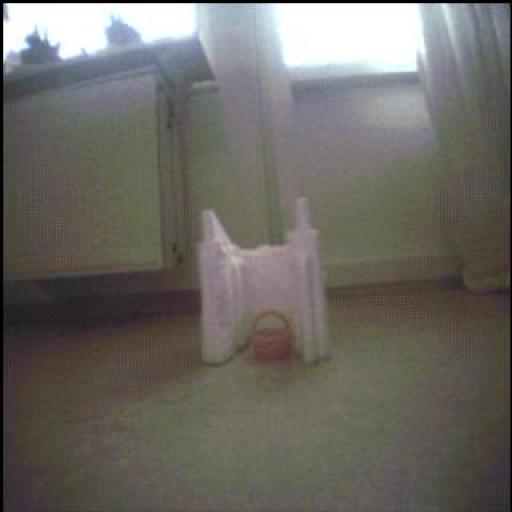Basket: (251, 312, 294, 363)
